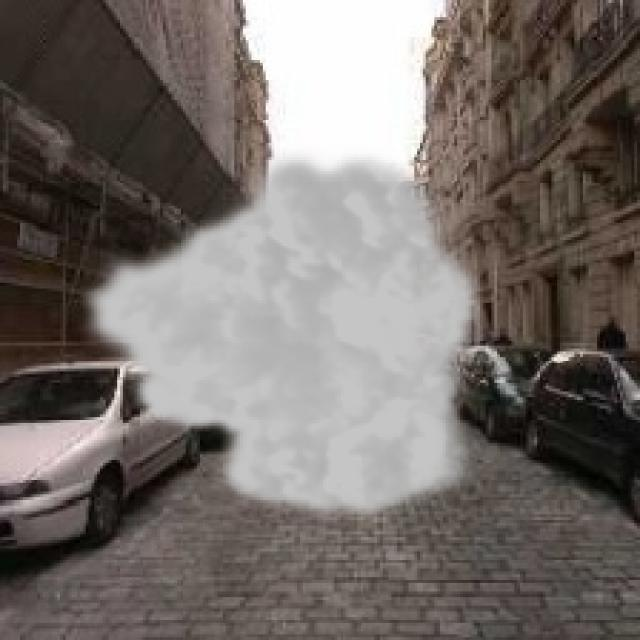smoke: (74, 143, 486, 526)
